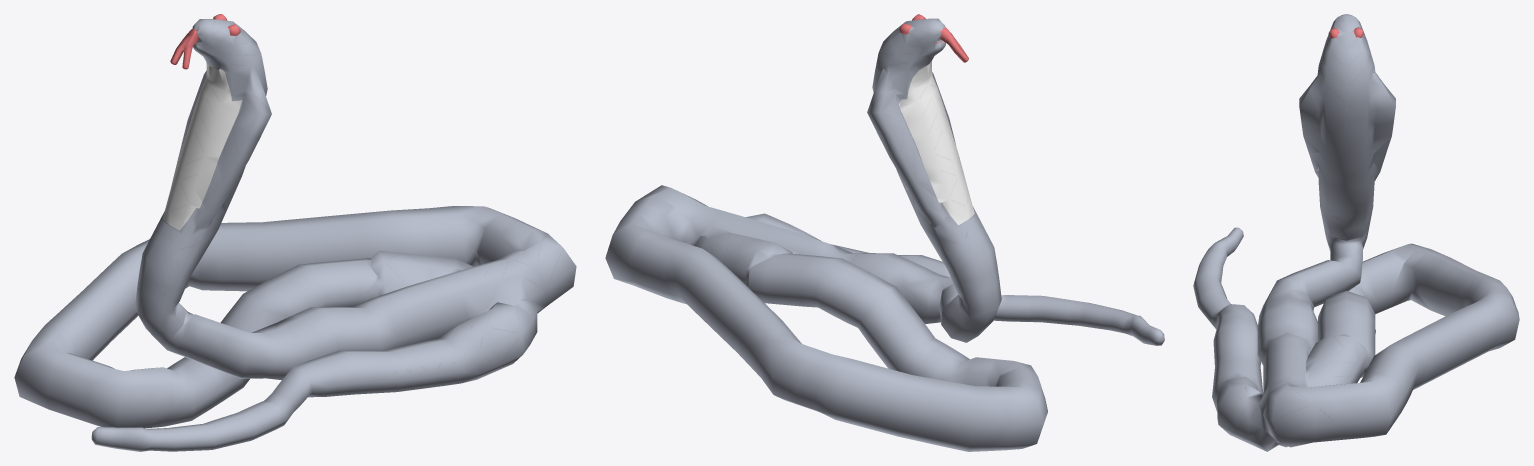
Rendered from cobra.glb.
The picture shows the model from 3 angles, left to right: view 1: azimuth 30°, elevation 25°; view 2: azimuth 150°, elevation 25°; view 3: azimuth 270°, elevation 25°; orthographic projection. The views are drawn at different scales.
Size of the model in its own units: 1.14 by 0.8514 by 0.7167.
Materials: 1 (1 with a texture image).
